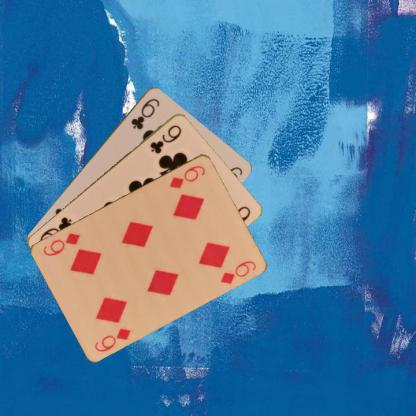6c: (128, 95, 161, 130)
6d: (92, 323, 132, 353), (167, 162, 207, 190)
9c: (147, 122, 183, 155)
